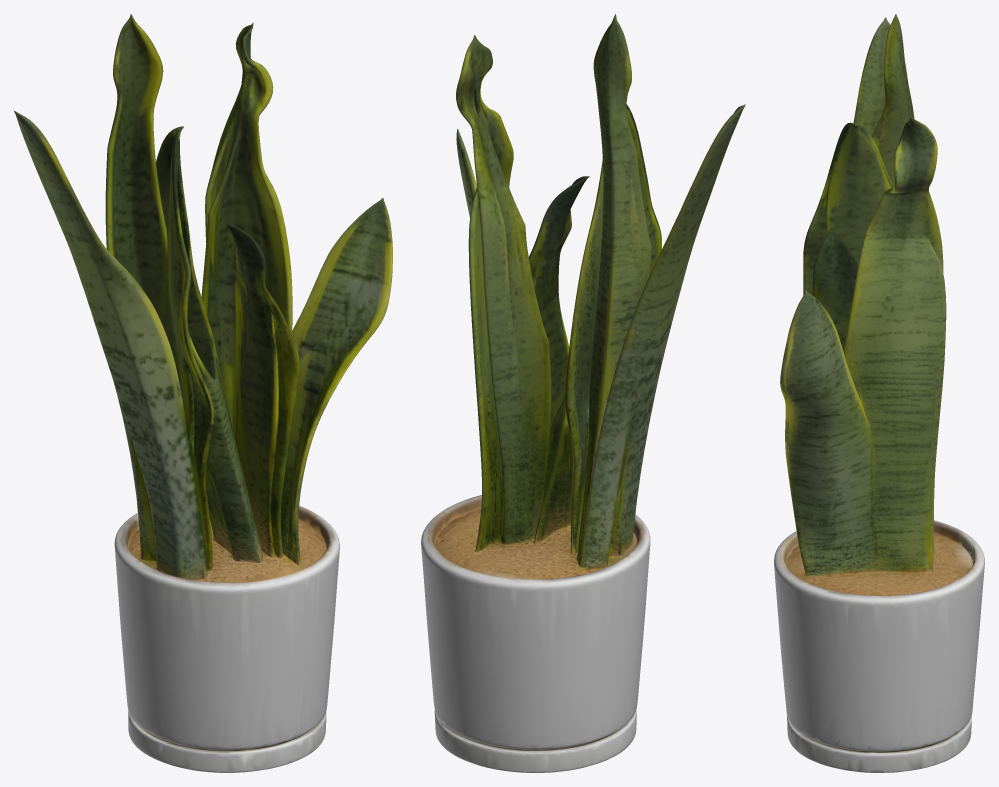
Rendered from desk_plant.glb.
3 views of the same model, side by side, from view 1: azimuth 30°, elevation 25°; view 2: azimuth 150°, elevation 25°; view 3: azimuth 270°, elevation 25° (orthographic). The views are drawn at different scales.
Parts seen in each view (by area): view 1: node_0; view 2: node_0; view 3: node_0.
Part boxes in pixels (x1=…): node_0: x1=14, y1=14, x2=392, y2=772; node_0: x1=421, y1=14, x2=745, y2=772; node_0: x1=774, y1=14, x2=984, y2=772.
Size of the model in its own units: 0.5323 by 1.14 by 0.318.
1 material, 1 textured.
